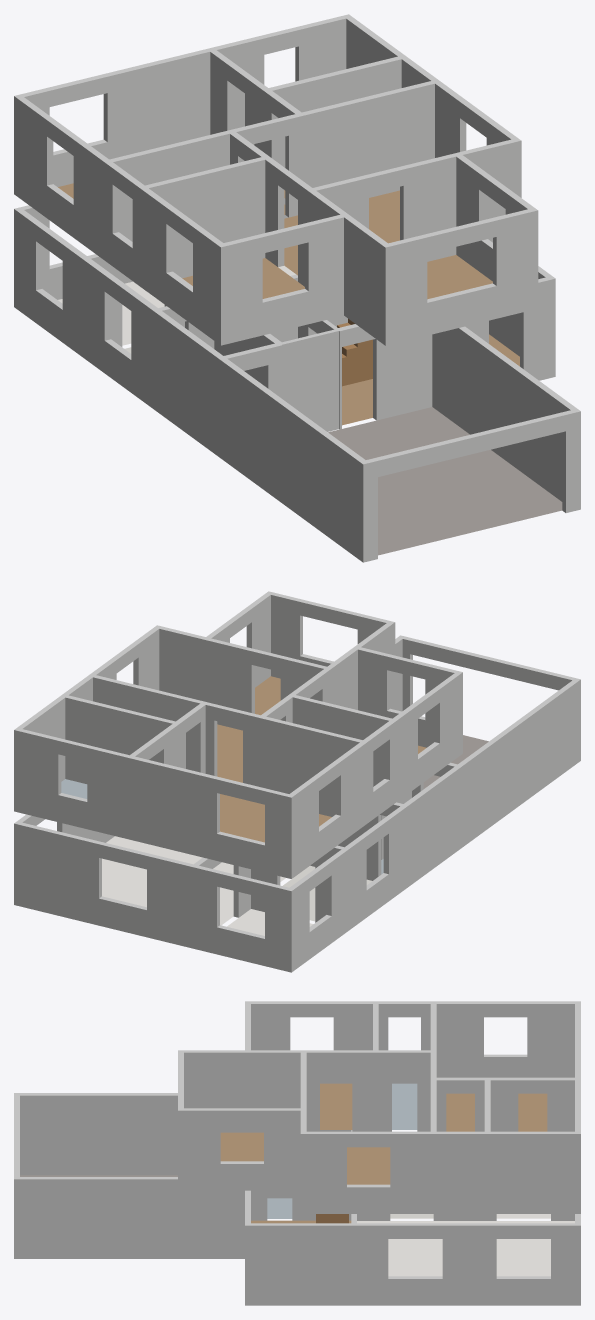
The model's file is the-tranquil-abode-3d.glb.
3 renders of one model, top to bottom at view 1: azimuth 30°, elevation 25°; view 2: azimuth 150°, elevation 25°; view 3: azimuth 270°, elevation 25°, orthographic. The views are drawn at different scales.
Parts seen in each view (by area): view 1: walls, floors, stairs; view 2: walls, floors; view 3: walls, floors.
Part boxes in pixels (x1,y1,x2,y2): walls: [14, 14, 580, 562]; floors: [58, 183, 562, 555]; stairs: [337, 318, 372, 386]; walls: [14, 591, 580, 972]; floors: [61, 676, 488, 935]; walls: [14, 1001, 580, 1305]; floors: [20, 1083, 574, 1276].
Size of the model in its own units: 8.7 by 5.24 by 15.71.
